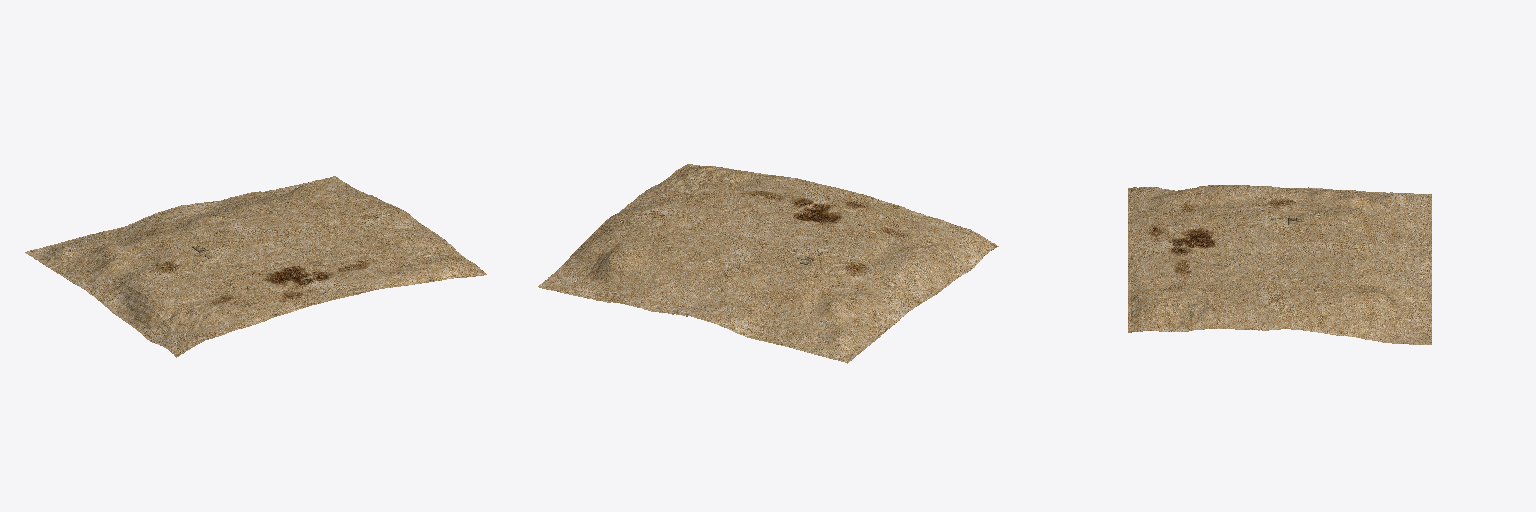
3 renders of one model, left to right at view 1: azimuth 30°, elevation 25°; view 2: azimuth 150°, elevation 25°; view 3: azimuth 270°, elevation 25°, orthographic.
Visible parts, largest first — view 1: Plane01; view 2: Plane01; view 3: Plane01.
Boxes of the visible parts, box(x1,y1,x2,y2) form: Plane01: box(25, 176, 486, 357); Plane01: box(538, 164, 998, 363); Plane01: box(1128, 185, 1431, 344).
Size of the model in its own units: 45.21 by 3.93 by 38.24.
3 materials, 3 textured.